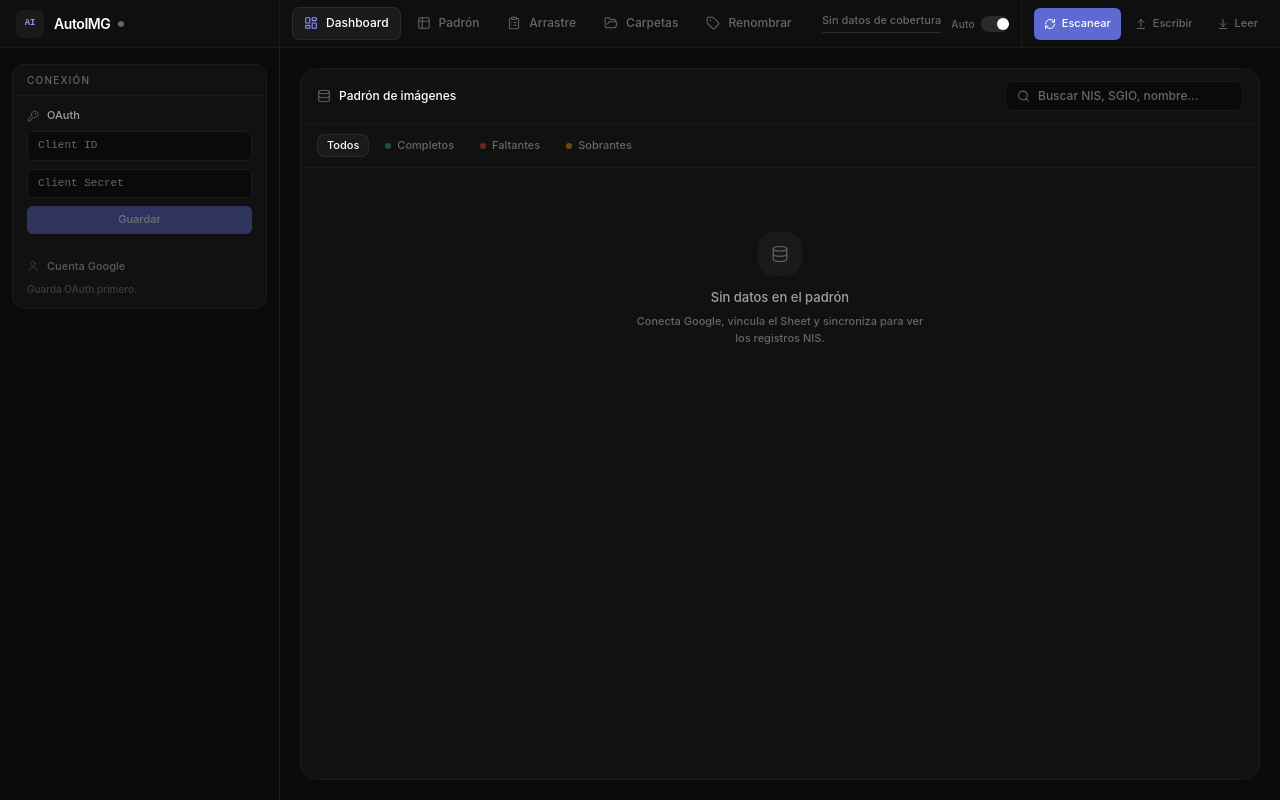
Test: AutoIMGApp layout and navigation › keeps sidebar panels visible when switching tabs
Click the button "Carpetas" at (641, 24), box [592,7,690,40]
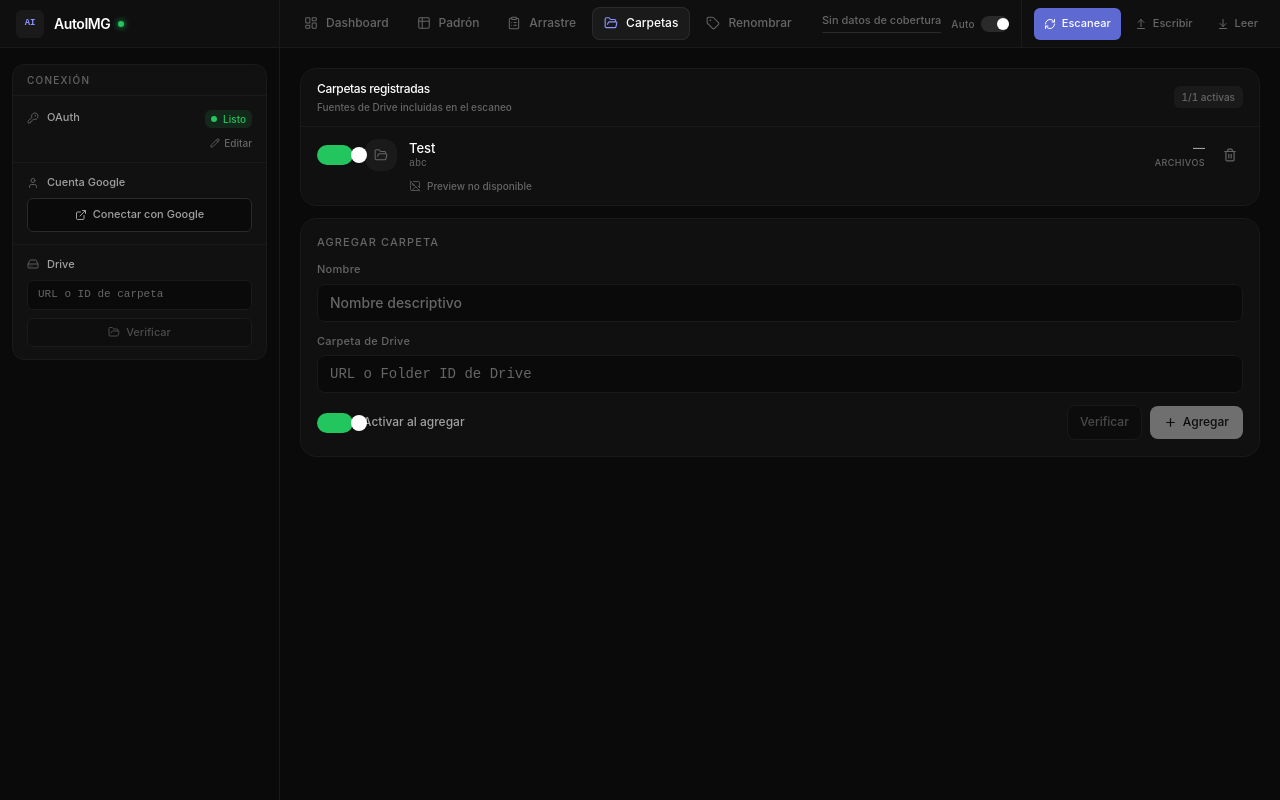
Expected: the text "Conexión" is shown, [27,74,90,86]
Result: the text "Carpetas registradas" is shown at [317,81,430,96]
Result: the text "Test" is shown at [409,140,436,156]
